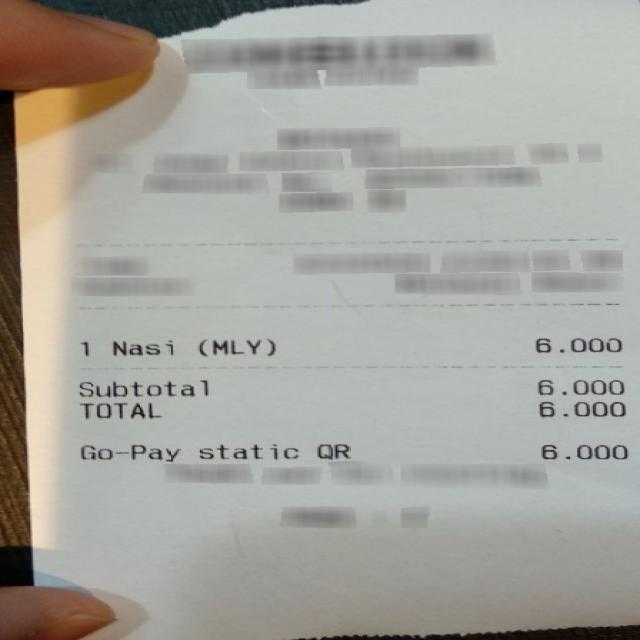text: (77, 379, 212, 396), (196, 443, 296, 459), (79, 444, 177, 460), (536, 400, 623, 416), (534, 337, 619, 352), (537, 379, 620, 394), (197, 338, 273, 354), (79, 402, 160, 417), (538, 444, 623, 458), (110, 339, 169, 354), (313, 443, 344, 457), (78, 339, 92, 357)
